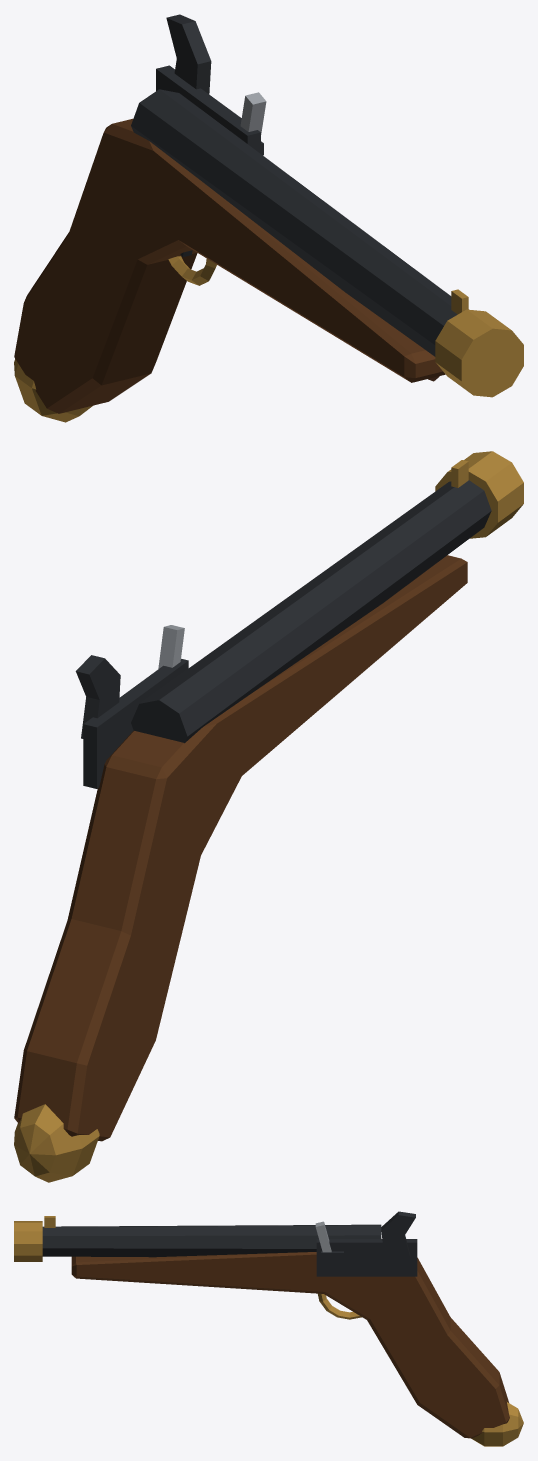
File: pistol.glb
3 renders of one model, top to bottom at view 1: azimuth 30°, elevation 25°; view 2: azimuth 150°, elevation 25°; view 3: azimuth 270°, elevation 25°, orthographic. The views are drawn at different scales.
Visible parts, largest first — view 1: pistol; view 2: pistol; view 3: pistol.
Boxes of the visible parts, left/top/right/bottom form: pistol: left=14, top=14, right=523, bottom=422; pistol: left=14, top=451, right=523, bottom=1182; pistol: left=14, top=1211, right=523, bottom=1446.
Size of the model in its own units: 0.038 by 0.188 by 0.354.
